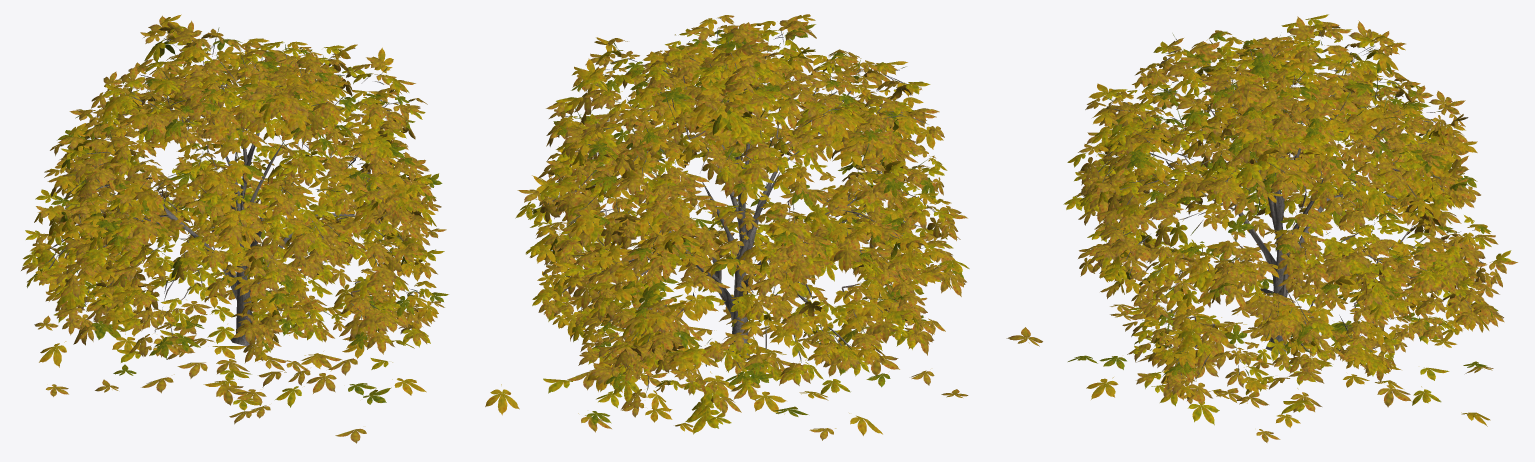
The model's file is aesculus-pavia-ld-s79.glb.
3 views of the same model, side by side, from view 1: azimuth 30°, elevation 25°; view 2: azimuth 150°, elevation 25°; view 3: azimuth 270°, elevation 25° (orthographic). The views are drawn at different scales.
Visible parts, largest first — view 1: ForestPlantCatalog_aesculus-pavia-ld-s79; view 2: ForestPlantCatalog_aesculus-pavia-ld-s79; view 3: ForestPlantCatalog_aesculus-pavia-ld-s79.
Boxes of the visible parts, <box> form: ForestPlantCatalog_aesculus-pavia-ld-s79: <box>21,14,448,443</box>; ForestPlantCatalog_aesculus-pavia-ld-s79: <box>485,14,969,440</box>; ForestPlantCatalog_aesculus-pavia-ld-s79: <box>1006,14,1517,442</box>.
Size of the model in its own units: 13.98 by 11 by 15.19.
Materials: 11 (11 with a texture image).
